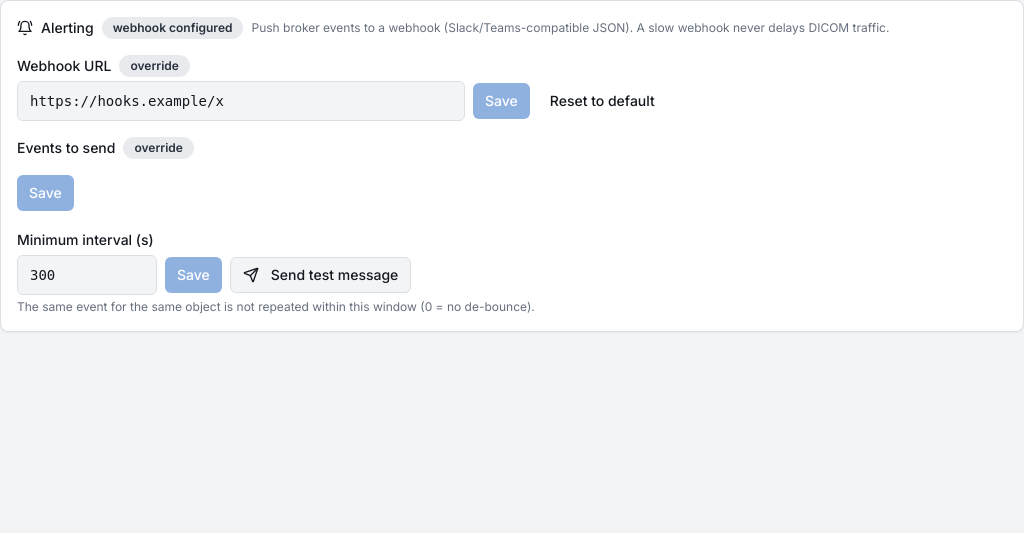
Test case: NotificationsCard › sends a test message and reports success
Click the button "Send test message". click: point(321, 275)
box: [230,257,411,293]
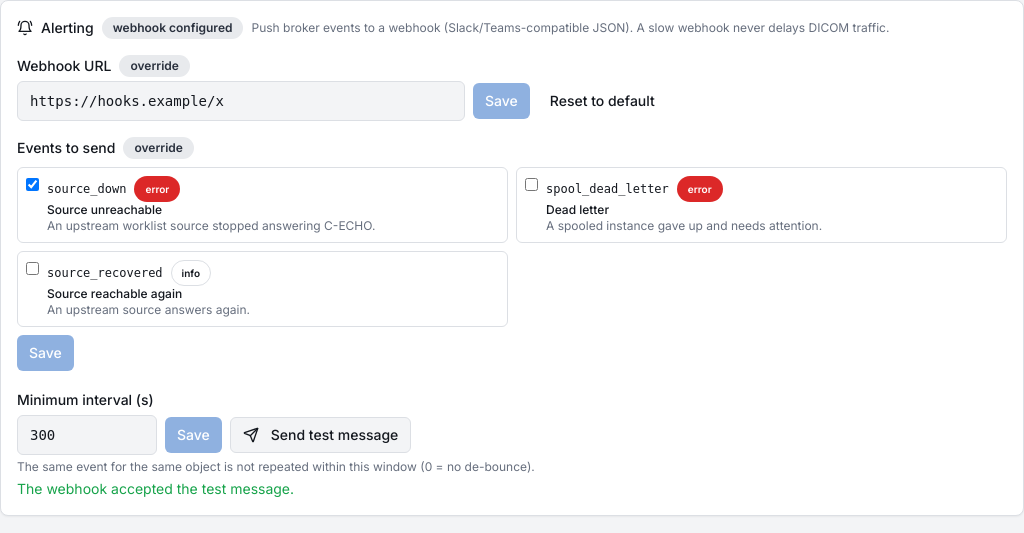
Expected: the message with test id "notify-test-result" shows "accepted the test message", [17,480,294,497]
